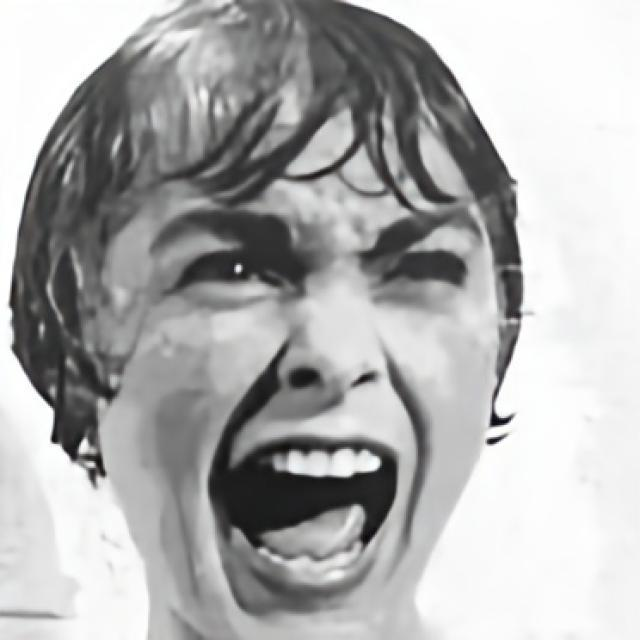Fear: (63, 13, 500, 640)
